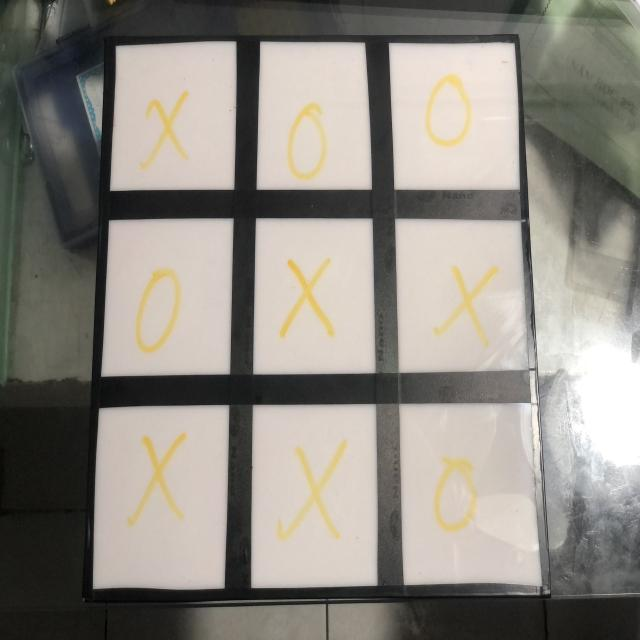o: (132, 264, 185, 356), (420, 69, 473, 150), (283, 98, 330, 186), (434, 449, 479, 533)
table: (77, 34, 552, 599)
x: (281, 442, 346, 541), (129, 432, 190, 531), (278, 255, 339, 345), (435, 264, 497, 350), (135, 84, 195, 166)
